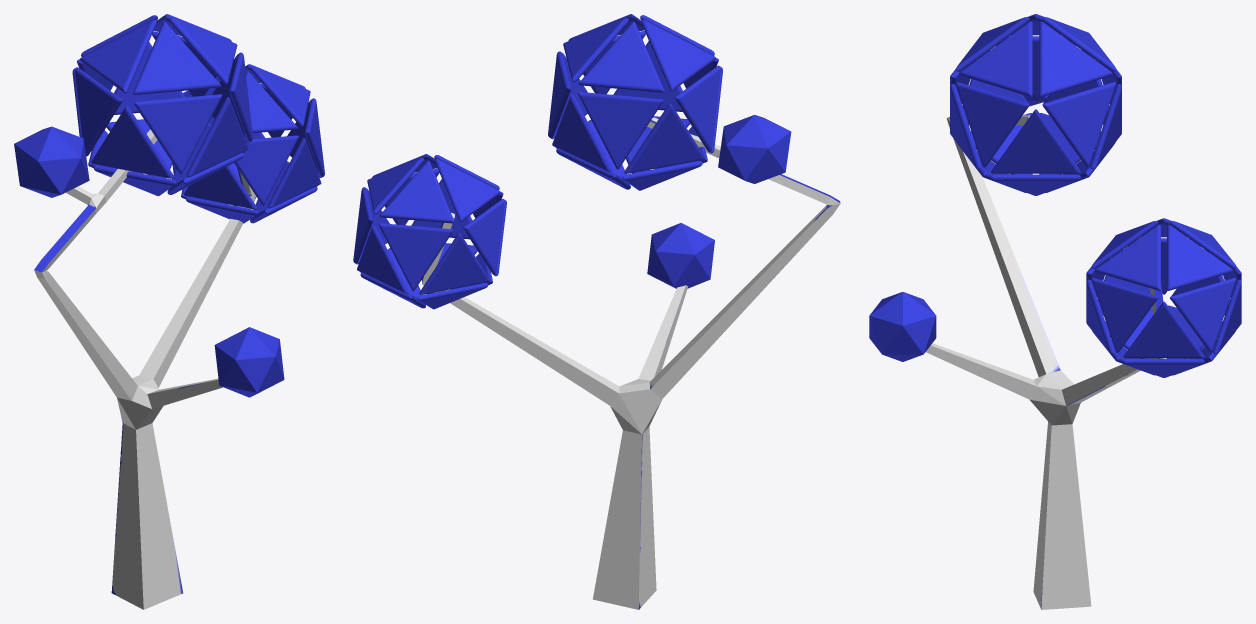
Rendered from BTree.obj.
3 renders of one model, left to right at view 1: azimuth 30°, elevation 25°; view 2: azimuth 150°, elevation 25°; view 3: azimuth 270°, elevation 25°, orthographic. The views are drawn at different scales.
Visible parts, largest first — view 1: Icosphere.014, Cube, Icosphere.010, Icosphere.007, Icosphere.011; view 2: Icosphere.014, Cube, Icosphere.010, Icosphere.007, Icosphere.011; view 3: Icosphere.014, Icosphere.010, Cube, Icosphere.011.
Part boxes in pixels (x1,y1,x2,y2): Icosphere.014: (72, 14, 252, 196); Cube: (34, 129, 256, 609); Icosphere.010: (172, 64, 324, 223); Icosphere.007: (14, 126, 89, 197); Icosphere.011: (214, 327, 284, 397); Icosphere.014: (548, 14, 722, 190); Cube: (422, 117, 840, 609); Icosphere.010: (353, 154, 506, 309); Icosphere.007: (718, 115, 791, 183); Icosphere.011: (647, 223, 714, 288); Icosphere.014: (950, 14, 1121, 195); Icosphere.010: (1086, 218, 1241, 377); Cube: (926, 115, 1163, 609); Icosphere.011: (869, 292, 936, 361).
Bounding box in the file's own units: 2.02 × 2.93 × 1.7.
1 material, 1 textured.
